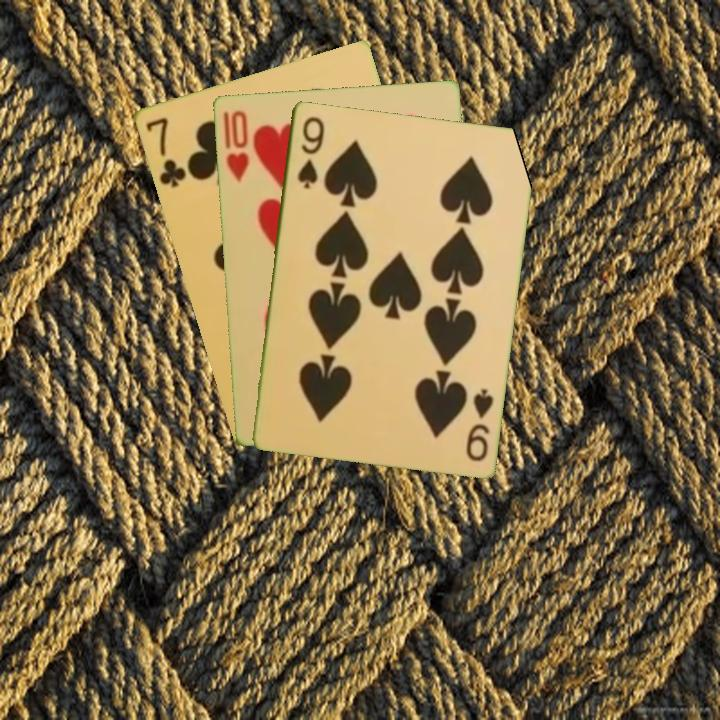10h: (219, 107, 252, 185)
7c: (141, 114, 189, 190)
9s: (293, 112, 327, 191), (462, 385, 496, 464)
